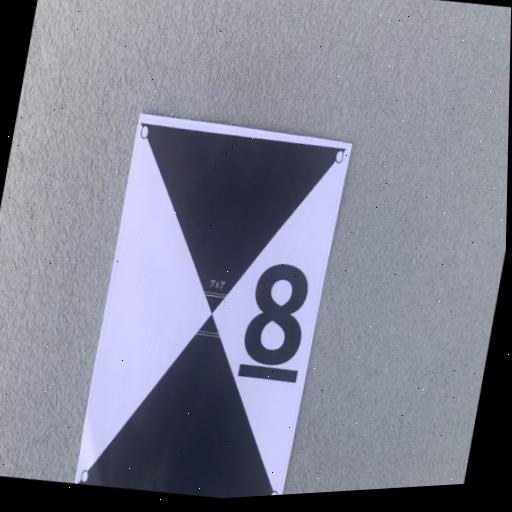target8: (74, 113, 351, 497)
